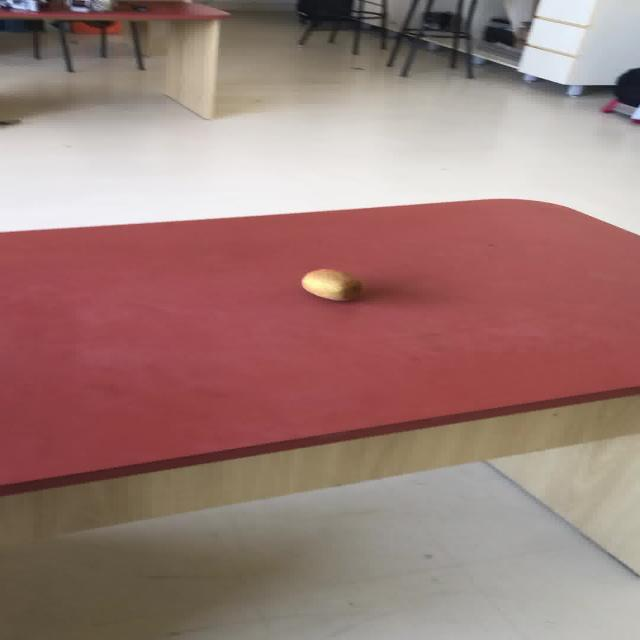kiwi: (299, 268, 361, 301)
